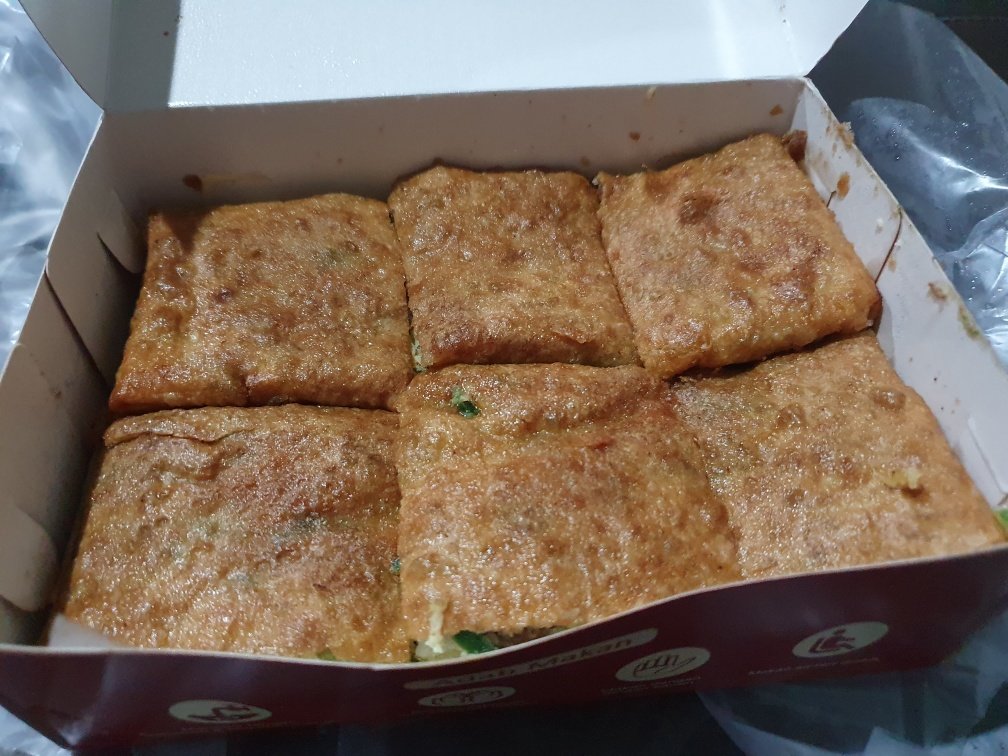martabak telor: (398, 366, 733, 642), (86, 399, 401, 680), (680, 358, 998, 583), (131, 195, 413, 406), (588, 161, 865, 351), (383, 169, 632, 369)
